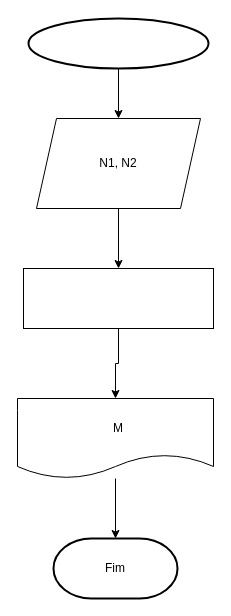
The diagram is 231 pixels wide and 616 high, and some of its shapes have lost their labels. The shapes that lost their labels are listed below. From the top down, each one's centre as x and y in pixels, then its label:
At (x=118, y=43): "Start".
At (x=118, y=298): "M = N1 * N2".
